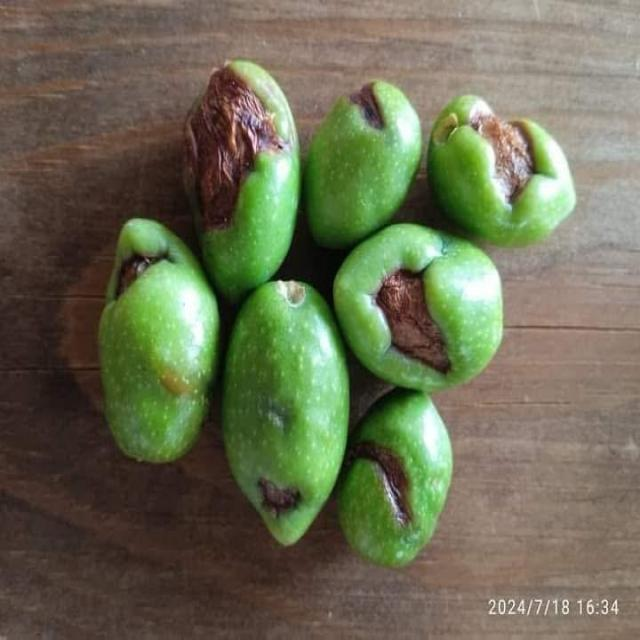Anthracnose: (223, 282, 349, 545), (100, 219, 220, 461), (186, 60, 300, 301), (334, 224, 502, 384), (428, 96, 576, 245), (304, 80, 420, 246), (338, 392, 452, 560)
